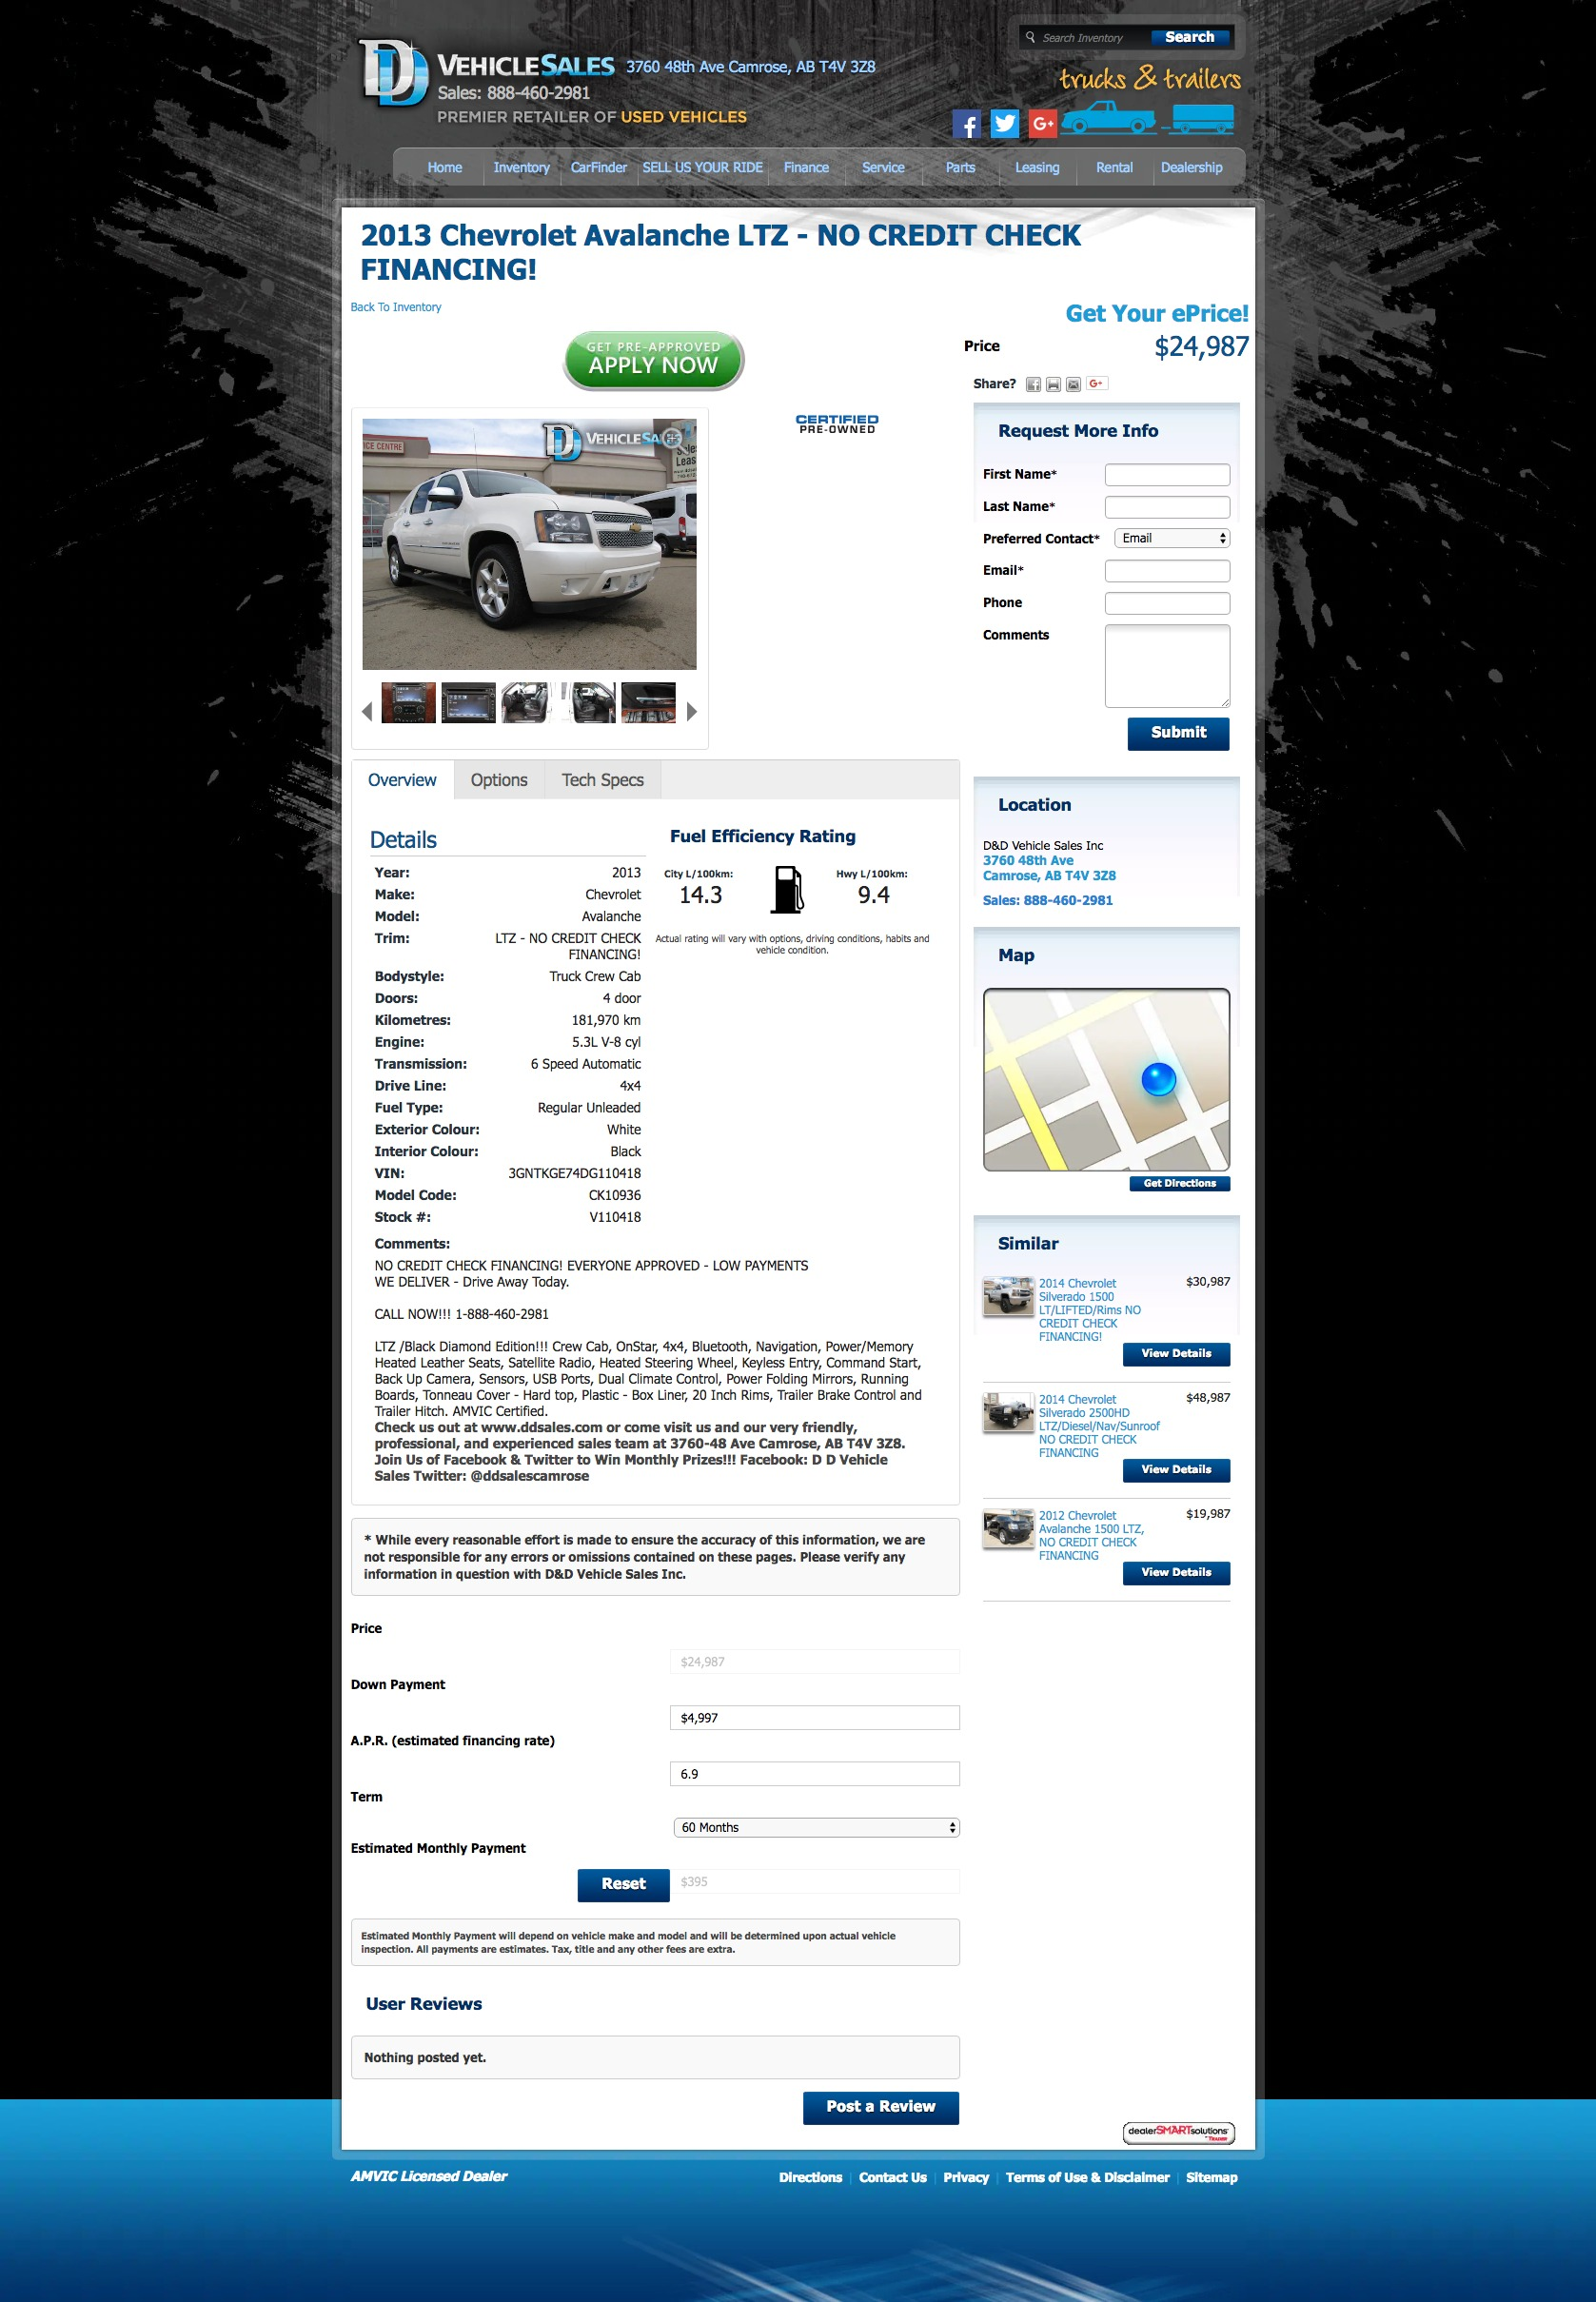car: (688, 701, 700, 722)
